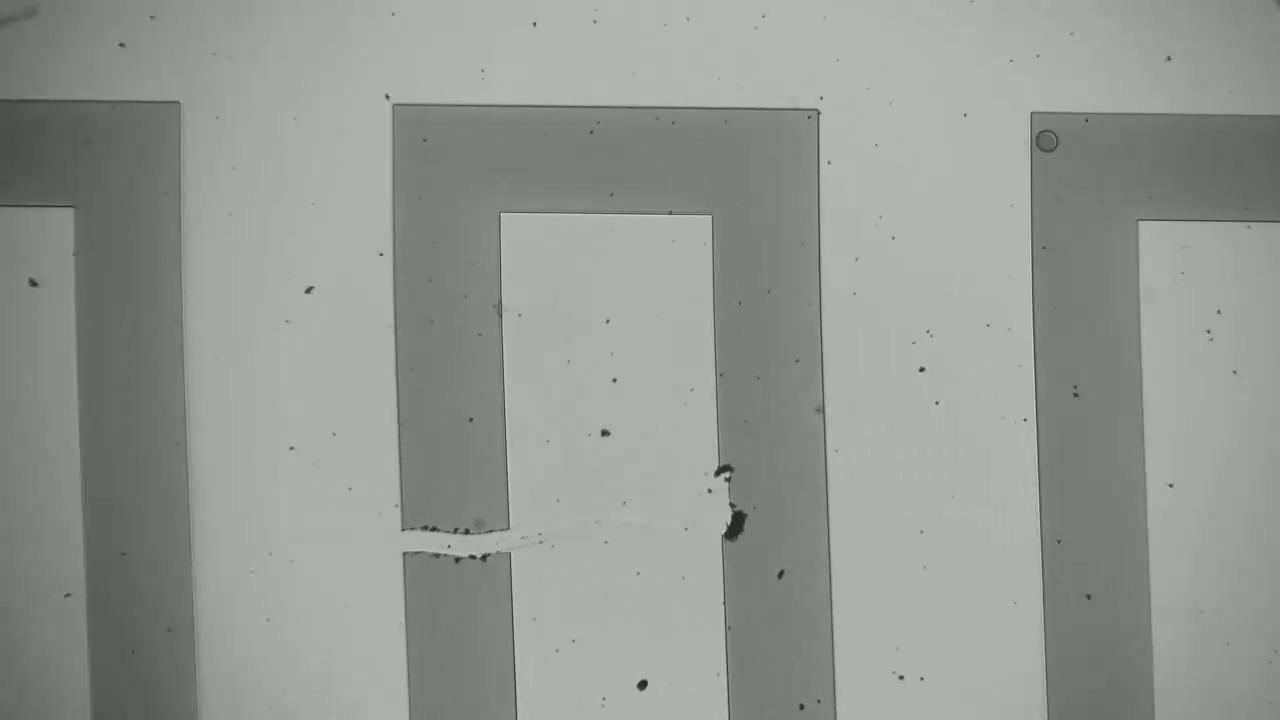Short_circuit: (374, 505, 527, 580)
